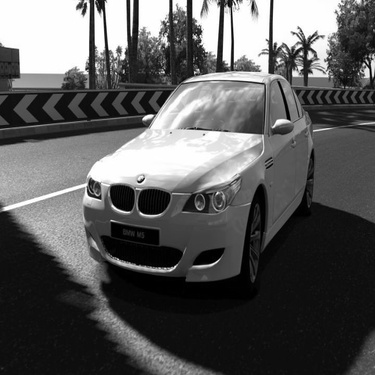car: (76, 58, 322, 306)
